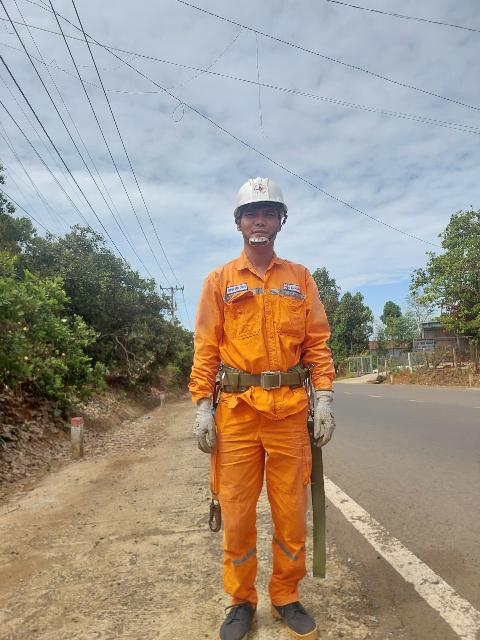gloves: (171, 390, 232, 461), (304, 390, 343, 448)
harness: (195, 348, 323, 401)
helmet: (218, 159, 297, 222)
shoes: (255, 586, 331, 640), (202, 594, 259, 640)
